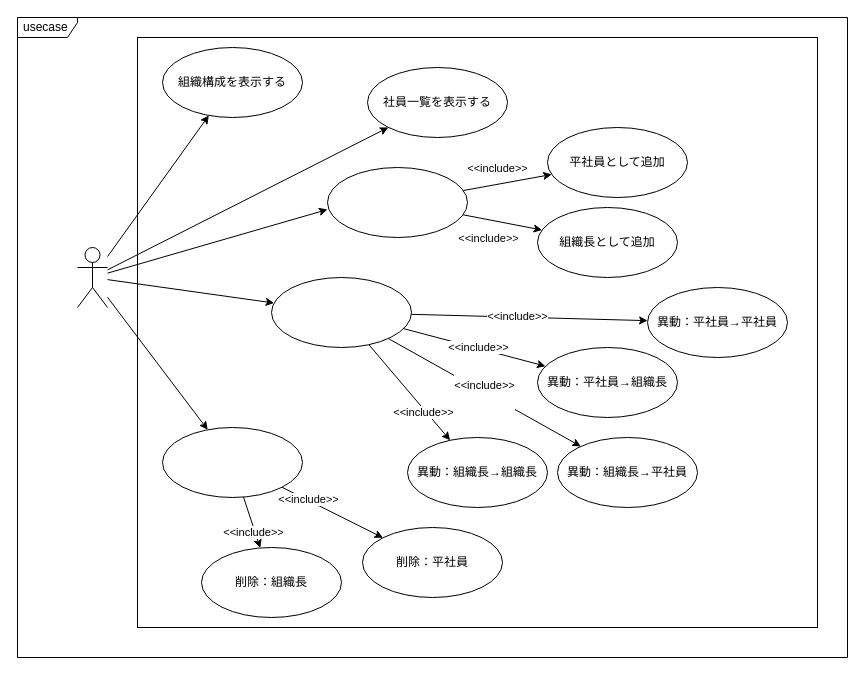
Some shapes in this 865 by 675 pixel diagram are drawn without their labels. Each missing label, with the centre of its shape:
ユーザー: point (92, 277)
社員を削除する: point (232, 462)
社員を異動する: point (341, 312)
社員を追加する: point (397, 202)
